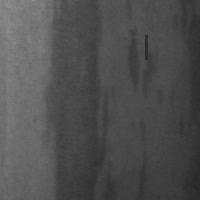inclusion: (38, 2, 109, 197), (174, 1, 199, 152), (120, 3, 148, 100), (130, 115, 153, 199), (144, 33, 148, 61)
